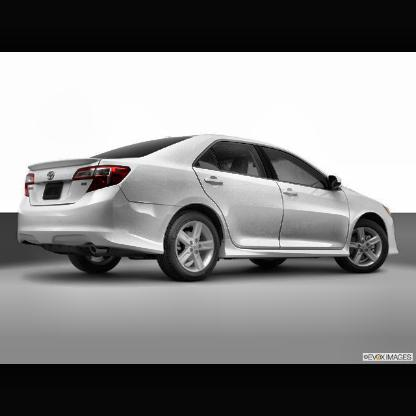Toyota Camry Sedan 2012: (17, 135, 401, 283)
